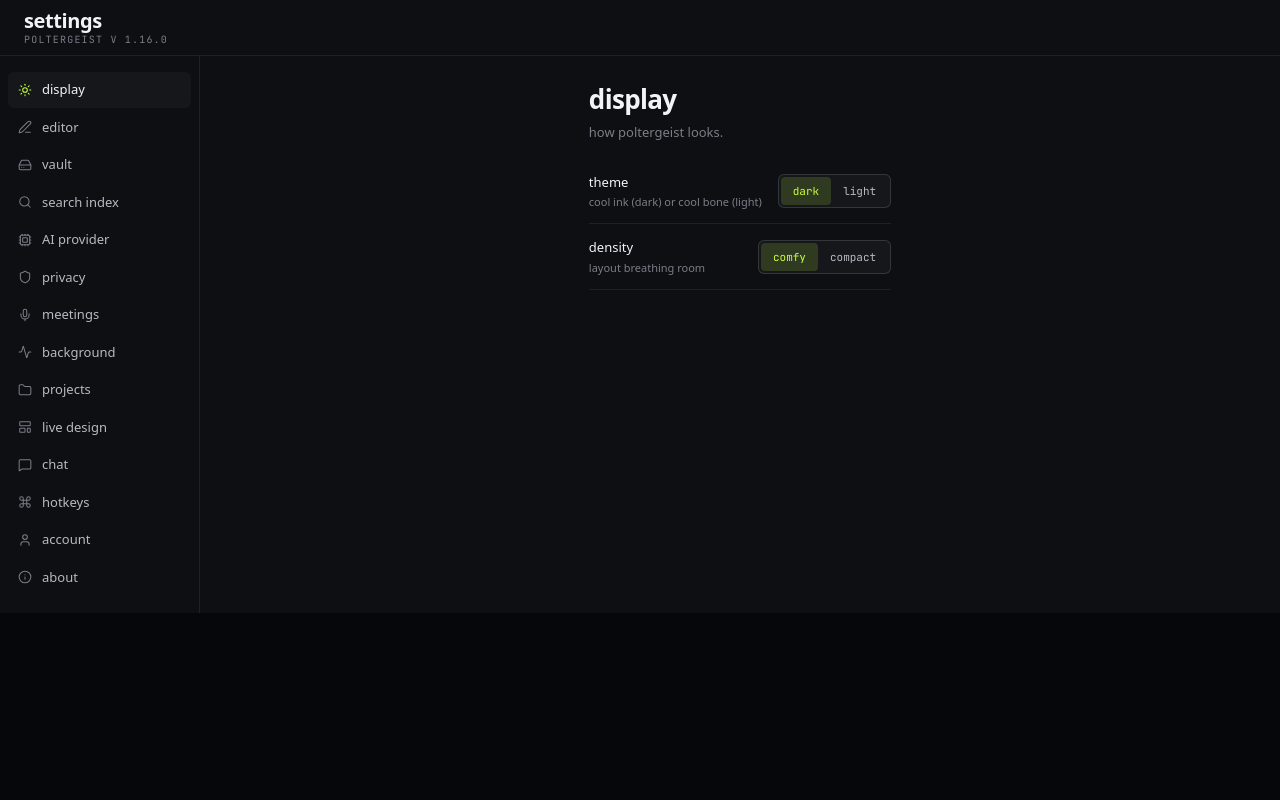
Test case: EditorSettings › is reachable from the settings nav
The width and height of the screenshot is (1280, 800).
Click the button "editor": (100, 127) [8, 110, 191, 145]
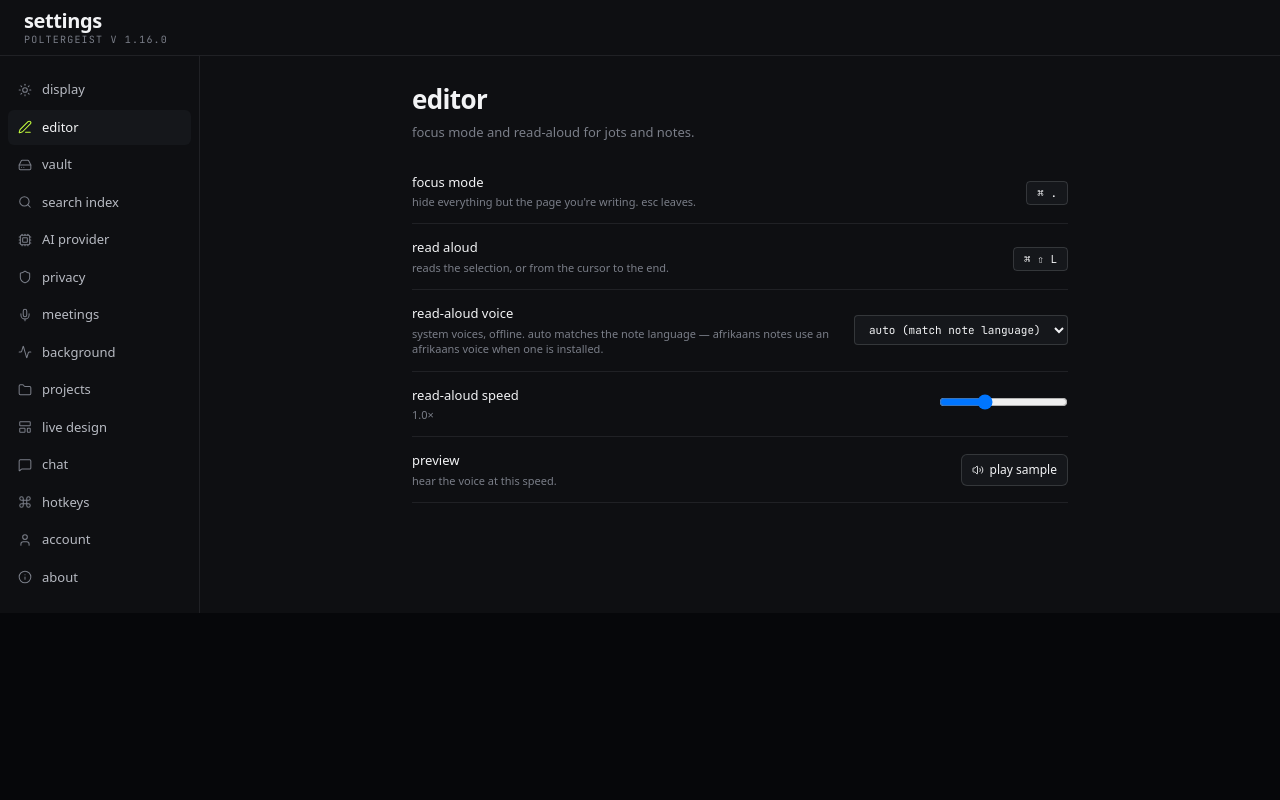
expect the heading "editor" is shown: met, box [412, 81, 487, 117]
